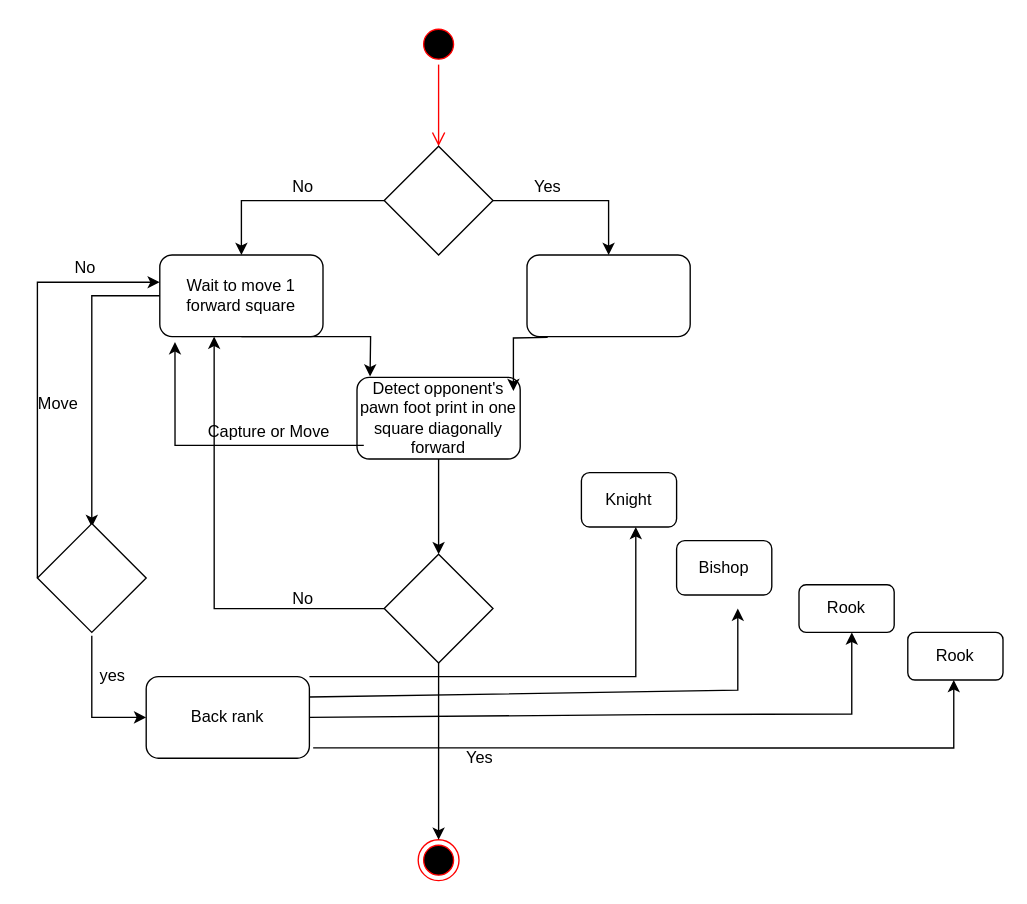
The diagram is 1027 pixels wide and 904 high, and some of its shapes have lost their labels. The centre of each missing label's shape, as x and y in pixels:
isBackRank: [91,577]
isCaptured: [438,608]
isFirstMove: [438,200]
Wait to move 1 or 2 forward squares: [608,295]
